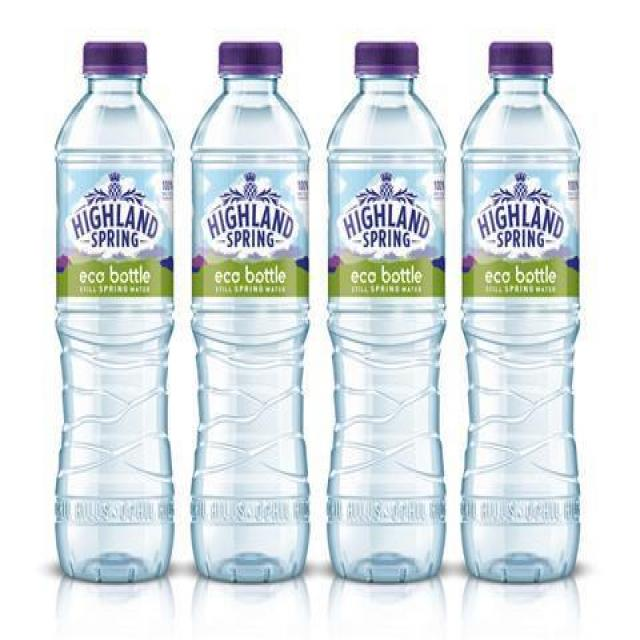plastic_bottle: (45, 59, 177, 578), (470, 47, 584, 581), (198, 52, 314, 570), (333, 52, 446, 569)
